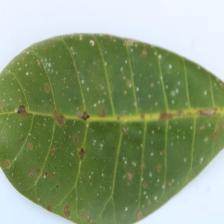red rust: (0, 32, 223, 224)
